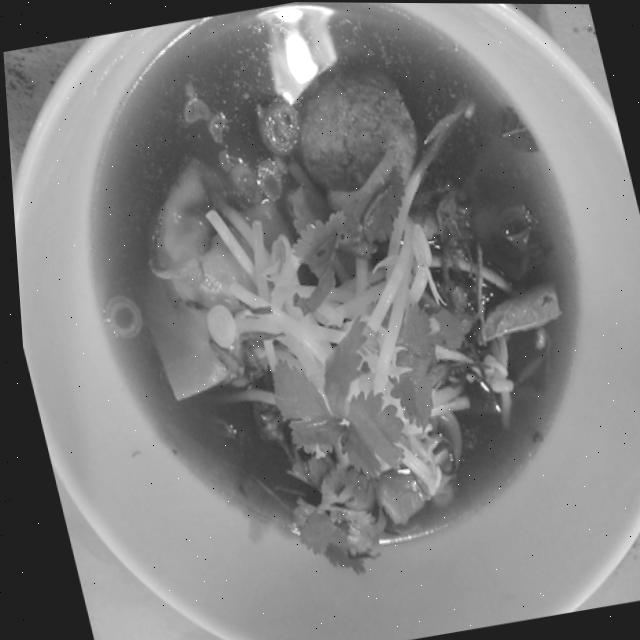汤锅炖物: (7, 0, 640, 604)
